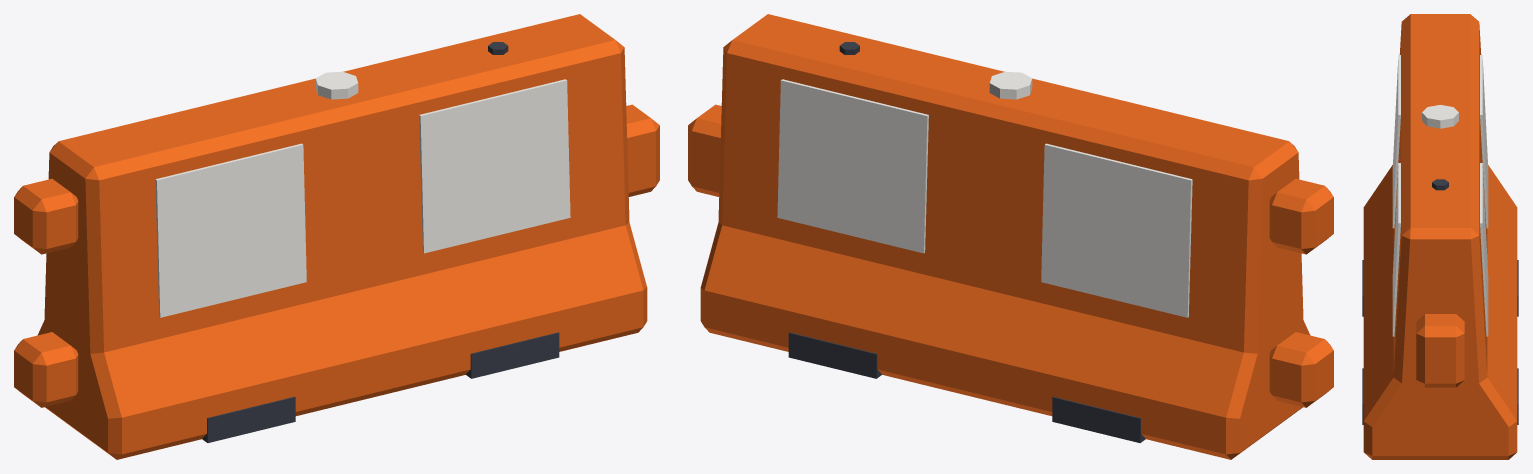
The model's file is barrier_plastic.glb.
3 renders of one model, left to right at view 1: azimuth 30°, elevation 25°; view 2: azimuth 150°, elevation 25°; view 3: azimuth 270°, elevation 25°, orthographic. The views are drawn at different scales.
Visible parts, largest first — view 1: barrier_plastic; view 2: barrier_plastic; view 3: barrier_plastic.
Boxes of the visible parts, box(x1,y1,x2,y2) form: barrier_plastic: box(14, 14, 659, 459); barrier_plastic: box(688, 14, 1333, 459); barrier_plastic: box(1362, 14, 1518, 459).
Bounding box in the file's own units: 2.14 × 0.9325 × 0.55.
